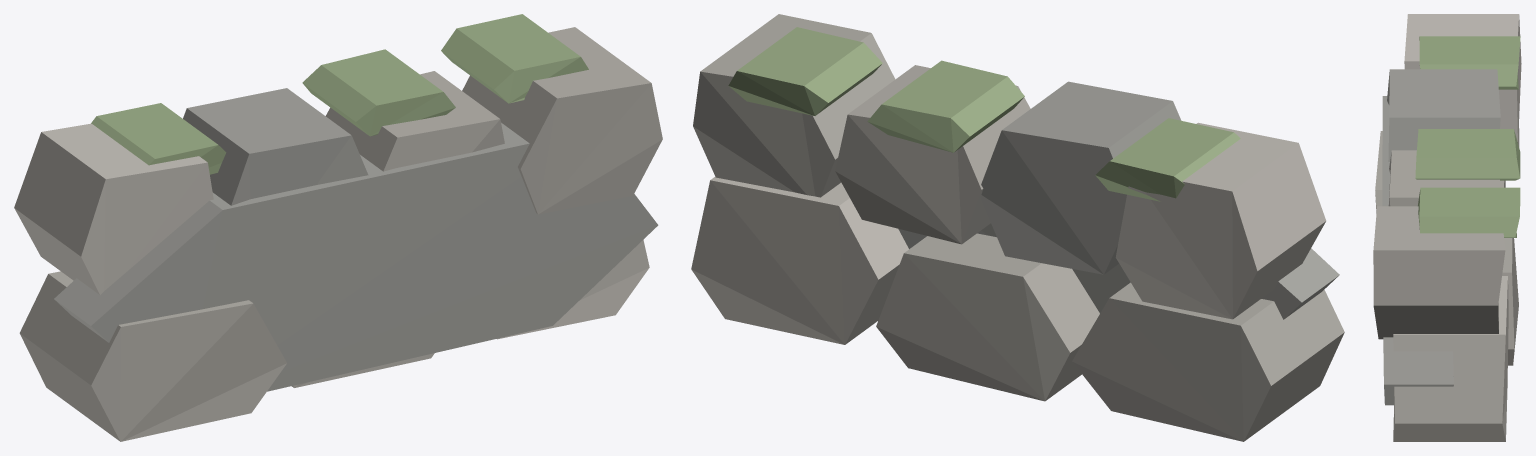
3 views of the same model, side by side, from view 1: azimuth 30°, elevation 25°; view 2: azimuth 150°, elevation 25°; view 3: azimuth 270°, elevation 25° (orthographic). The views are drawn at different scales.
Visible parts, largest first — view 1: wall_moss; view 2: wall_moss; view 3: wall_moss.
Boxes of the visible parts, left/top/right/bottom form: wall_moss: left=14, top=14, right=662, bottom=441; wall_moss: left=691, top=14, right=1344, bottom=441; wall_moss: left=1373, top=14, right=1521, bottom=441.
Bounding box in the file's own units: 2.02 × 0.8602 × 0.5277.
